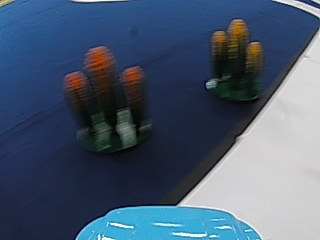corn: (63, 46, 150, 155), (203, 18, 265, 105)
